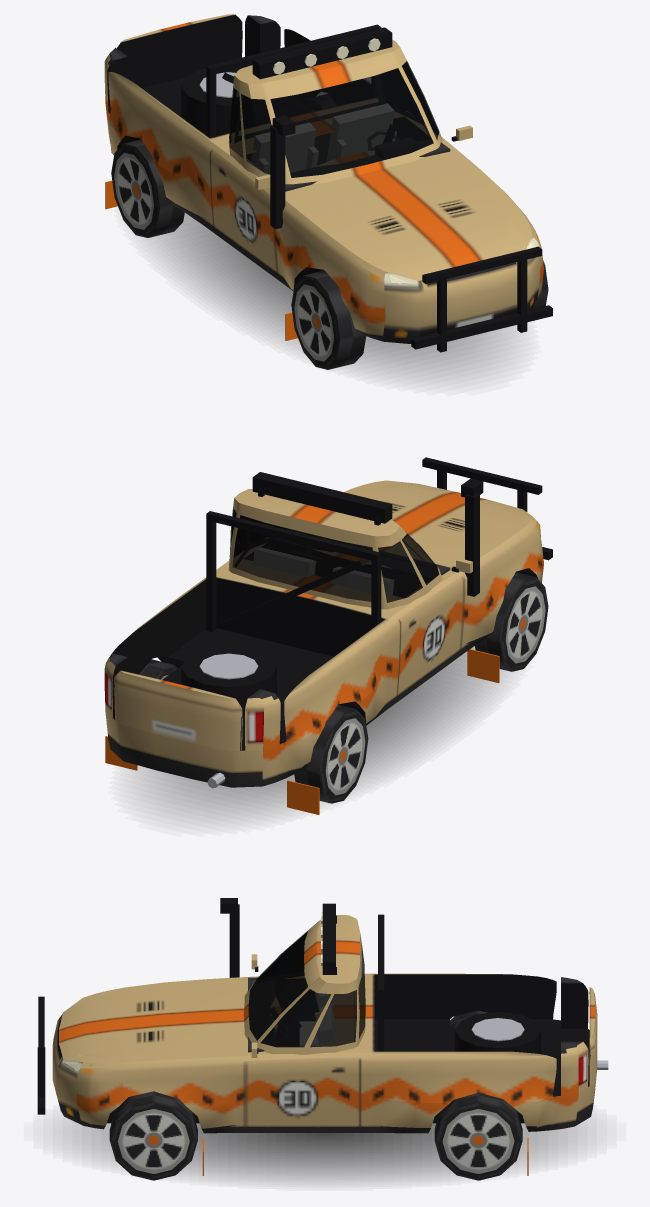
The model's file is jararaca.glb.
The picture shows the model from 3 angles, top to bottom: view 1: azimuth 30°, elevation 25°; view 2: azimuth 150°, elevation 25°; view 3: azimuth 270°, elevation 25°; orthographic projection. The views are drawn at different scales.
Visible parts, largest first — view 1: Carroceria, Capo_malha, Sombra, Porta_D_malha, Interior, Tampa_malha, Roda_DD, Roda_TD, Porta_E_malha; view 2: Carroceria, Sombra, Porta_D_malha, Capo_malha, Tampa_malha, Interior, Roda_TD, Roda_DD, Porta_E_malha; view 3: Carroceria, Sombra, Porta_E_malha, Capo_malha, Roda_DE, Roda_TE, Interior, Porta_D_malha, Tampa_malha.
Boxes of the visible parts, x1,y1,x2,y2 form: Carroceria: (104, 15, 552, 352); Capo_malha: (292, 158, 536, 280); Sombra: (147, 213, 515, 380); Porta_D_malha: (210, 75, 288, 271); Interior: (235, 74, 450, 270); Tampa_malha: (117, 14, 242, 88); Roda_DD: (291, 270, 366, 369); Roda_TD: (111, 139, 184, 237); Porta_E_malha: (381, 47, 472, 147); Carroceria: (104, 457, 552, 814); Sombra: (134, 646, 504, 821); Porta_D_malha: (374, 526, 472, 694); Capo_malha: (345, 480, 536, 563); Tampa_malha: (113, 670, 242, 750); Interior: (235, 517, 516, 597); Roda_TD: (294, 705, 368, 803); Roda_DD: (475, 572, 548, 671); Porta_E_malha: (228, 498, 283, 570); Carroceria: (37, 898, 608, 1175); Sombra: (62, 1120, 587, 1183); Porta_E_malha: (245, 977, 360, 1126); Capo_malha: (63, 980, 232, 1068); Roda_DE: (109, 1091, 197, 1180); Roda_TE: (434, 1092, 522, 1180); Interior: (124, 971, 333, 1101); Porta_D_malha: (251, 920, 319, 979); Tampa_malha: (589, 987, 597, 1085).
Size of the model in its own units: 2.62 by 2.03 by 5.65.
Materials: 14 (5 with a texture image).
